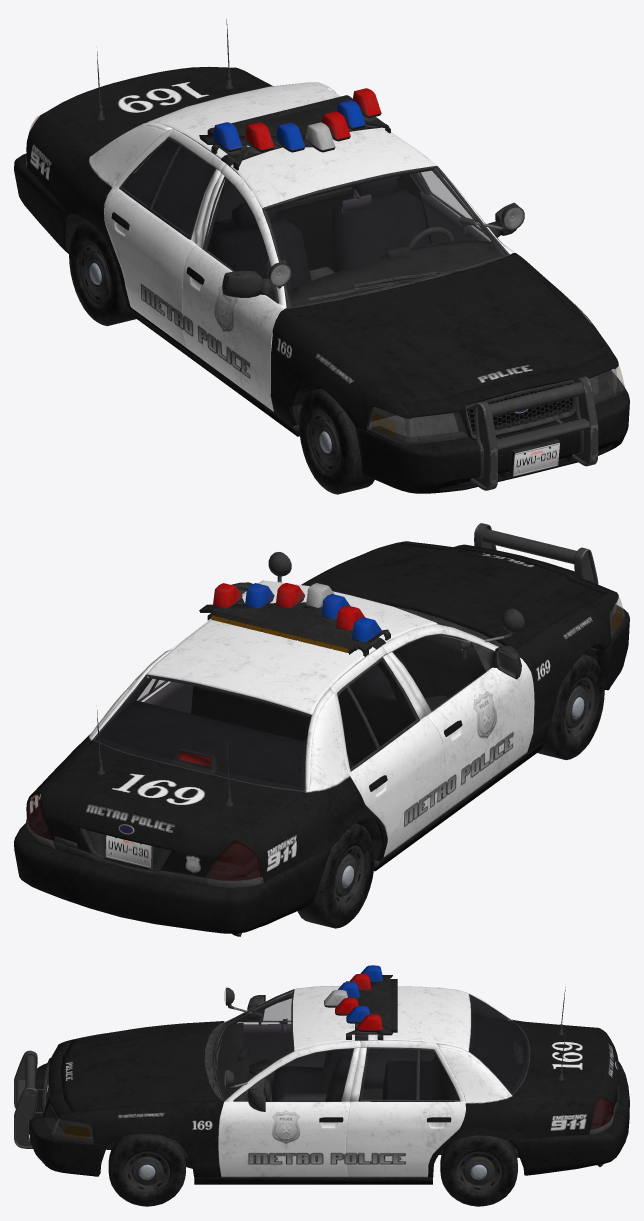
The model's file is CrownVic_Police.gltf.
The picture shows the model from 3 angles, top to bottom: view 1: azimuth 30°, elevation 25°; view 2: azimuth 150°, elevation 25°; view 3: azimuth 270°, elevation 25°; orthographic projection. The views are drawn at different scales.
Parts seen in each view (by area): view 1: glass_low, fs_vector_bulbs_base_low; view 2: glass_low, fs_vector_bulbs_base_low; view 3: glass_low, fs_vector_bulbs_base_low.
Boxes of the visible parts, box(x1,y1,x2,y2) form: glass_low: box(14, 19, 629, 494); fs_vector_bulbs_base_low: box(199, 88, 390, 170); glass_low: box(14, 523, 629, 936); fs_vector_bulbs_base_low: box(199, 583, 390, 656); glass_low: box(14, 985, 629, 1206); fs_vector_bulbs_base_low: box(324, 965, 397, 1040).
Bounding box in the file's own units: 2.11 × 1.62 × 5.3.
7 materials, 7 textured.
